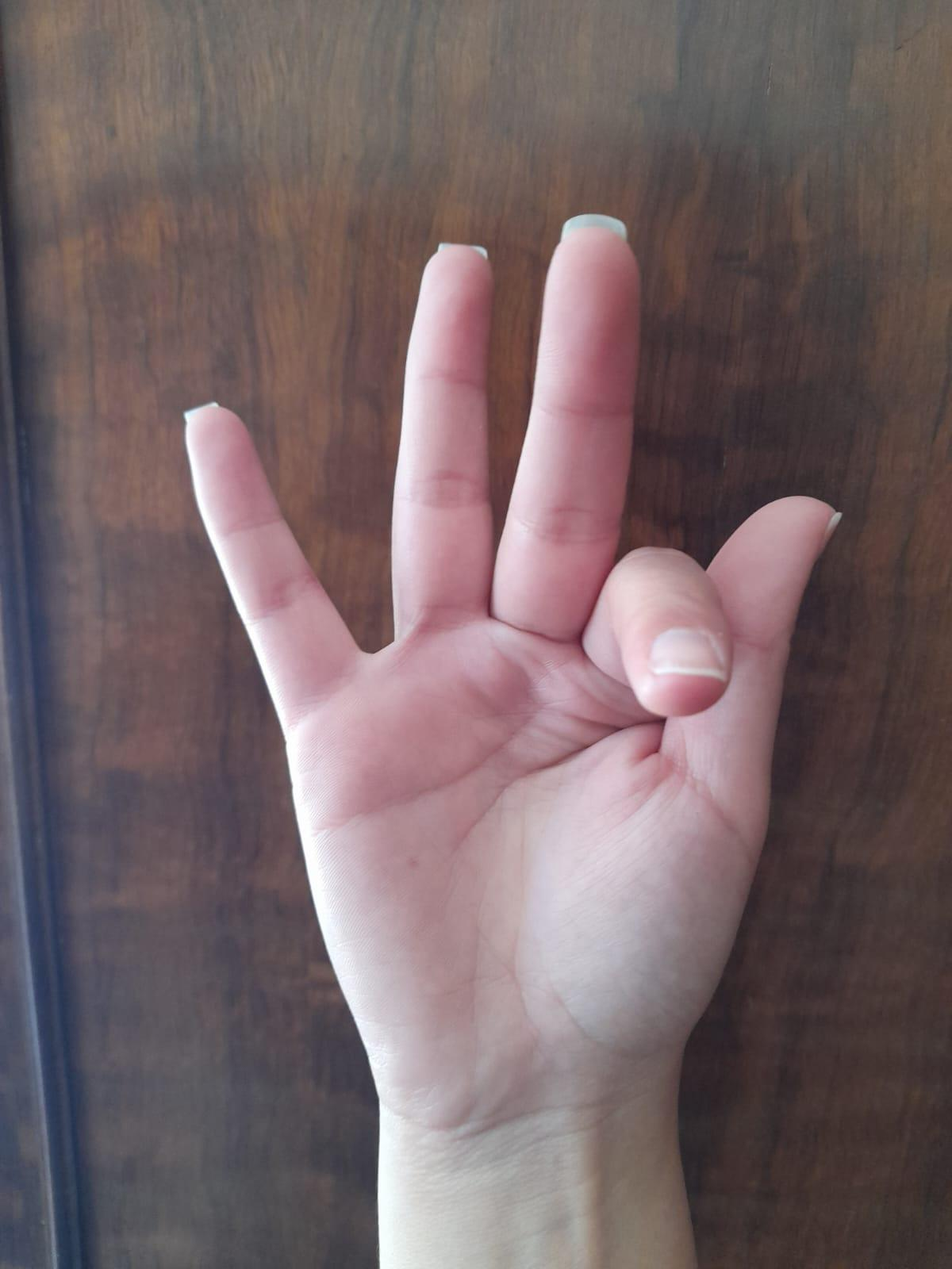F: (151, 190, 873, 1206)
